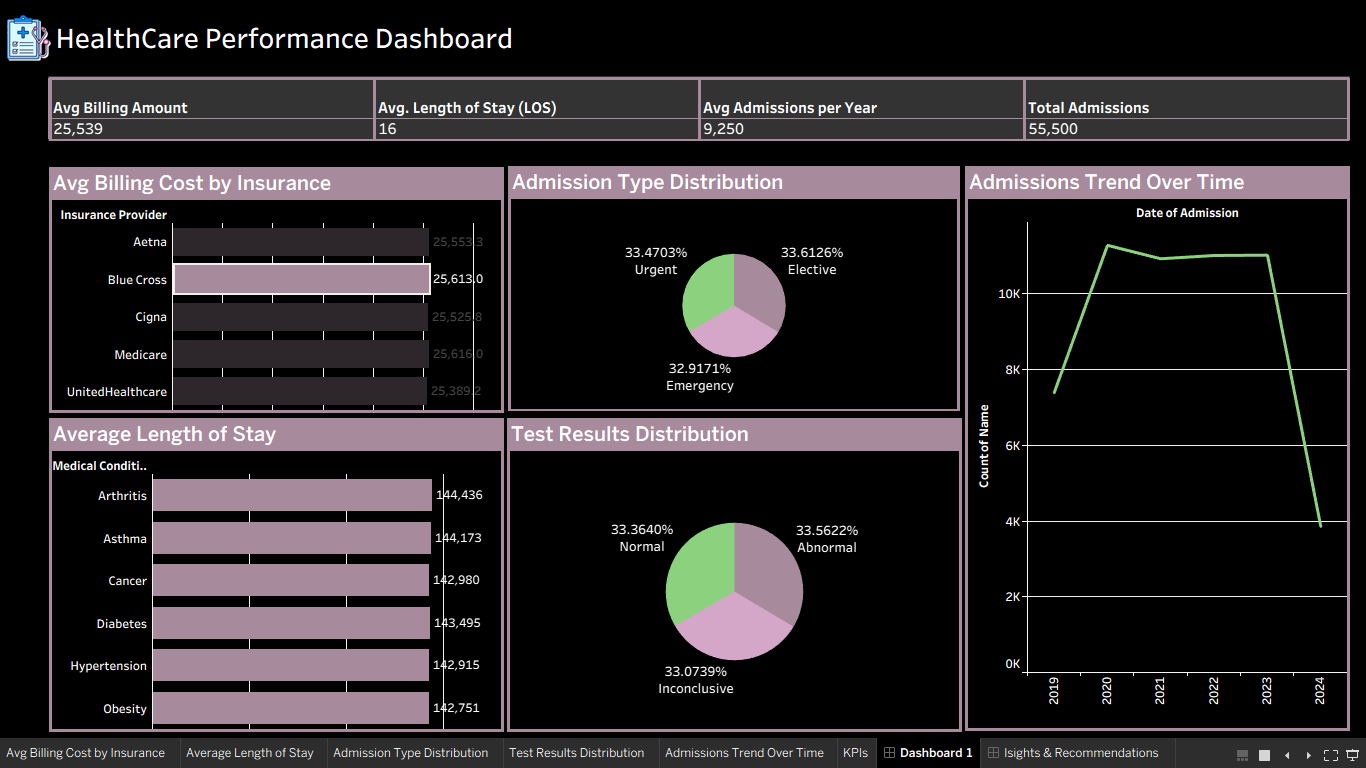

The page's visual inventory and layout, read from the dashboard file:
{"tool":"tableau","page":{"name":"Dashboard 1","canvas":[1000,1000],"units":"permille","ordinal":0},"visuals":[{"type":"text","box":[39,10.1,420.8,82.8]},{"type":"image","param":"Image/medical-chechup.png","box":[3.5,18.6,56.3,64.2]},{"type":"worksheet","title":"KPIs","mark":"Automatic","box":[35,84.5,953.6,148.7]},{"type":"worksheet","title":"Admission Type Distribution","mark":"Pie","box":[372.2,224.7,331,332.8]},{"type":"worksheet","title":"Admissions Trend Over Time","mark":"Automatic","rows":["Name"],"cols":["Date of Admission"],"box":[706.6,224.7,282,765.2]},{"type":"worksheet","title":"Avg Billing Cost by Insurance","mark":"Automatic","rows":["Insurance Provider"],"cols":["Calculation_1387070795161602"],"box":[35.9,226.3,332.8,332.8]},{"type":"worksheet","title":"Average Length of Stay","mark":"Automatic","rows":["Medical Condition"],"cols":["Calculation_1387070794952704"],"box":[35.9,565.9,332.8,425.7]},{"type":"worksheet","title":"Test Results Distribution","mark":"Pie","box":[371.3,565.9,332.8,425.7]}]}

Visuals, with their boxes on the dashboard's canvas, which has no fixed pixel size, in thousandths of its width and height (x1, y1, x2, y2). These are canvas units, not pixel positions in the 1366x768 screenshot, which may show the page scaled, cropped or inside an application window:
text: select_region(39, 10, 460, 93)
image: select_region(4, 19, 60, 83)
"KPIs" worksheet: select_region(35, 84, 989, 233)
"Admission Type Distribution" worksheet (Pie marks): select_region(372, 225, 703, 558)
"Admissions Trend Over Time" worksheet: select_region(707, 225, 989, 990)
"Avg Billing Cost by Insurance" worksheet: select_region(36, 226, 369, 559)
"Average Length of Stay" worksheet: select_region(36, 566, 369, 992)
"Test Results Distribution" worksheet (Pie marks): select_region(371, 566, 704, 992)
